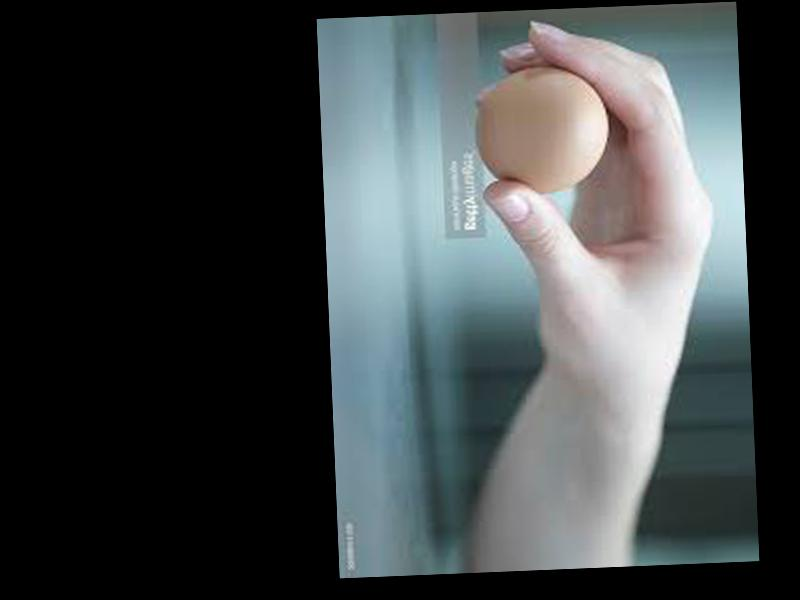Eggs: (470, 64, 613, 198)
